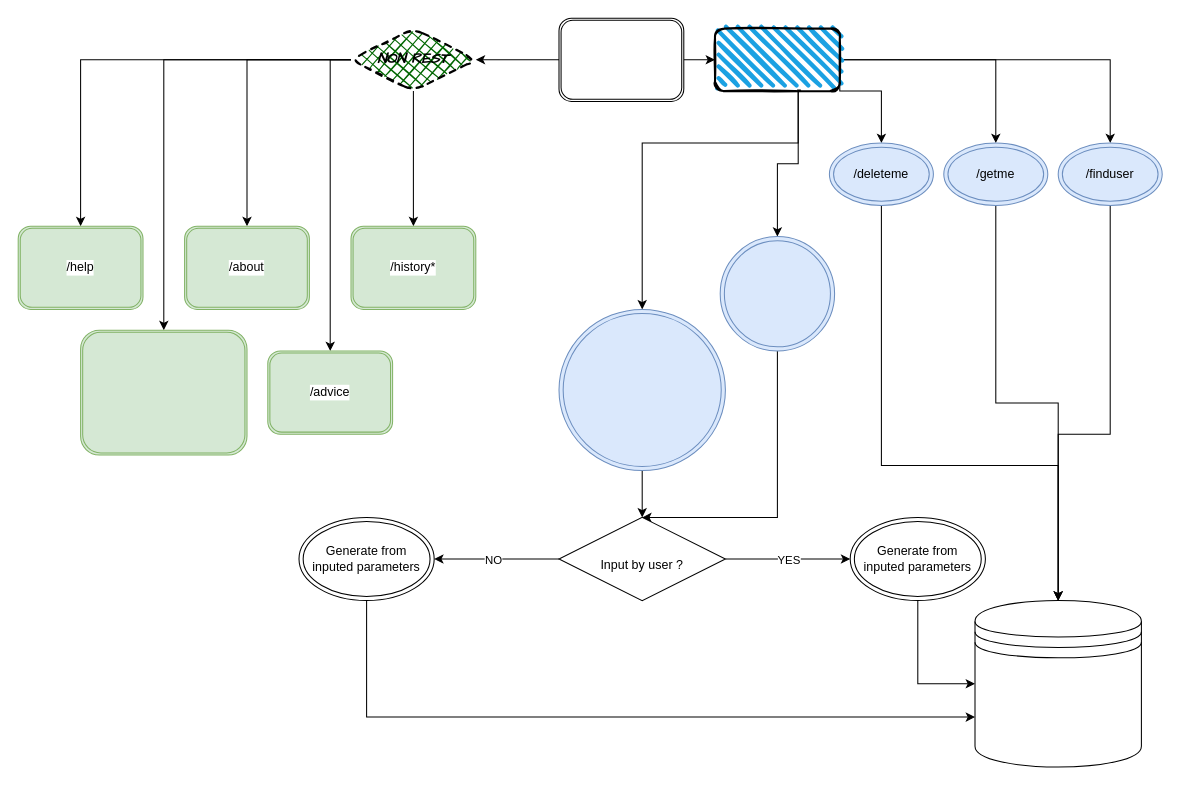
This 1180x785 diagram has some shape labels left out. Each missing label, with the centre of its shape:
"/changeme" belongs at point 777,293.
"/config*" belongs at point 163,392.
"/newuser" belongs at point 641,389.
"/start" belongs at point 621,59.
"FIREBASE DB" belongs at point 1057,683.
"REST API COMMANDS" belongs at point 776,59.
